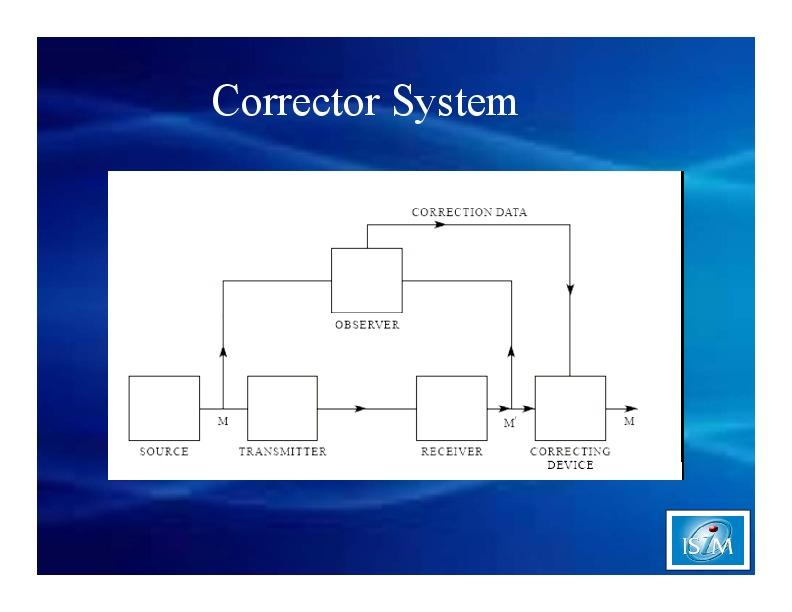title: (206, 68, 525, 133)
